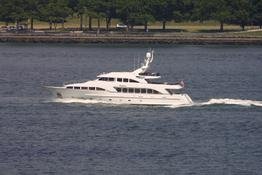yacht: (42, 51, 194, 105)
